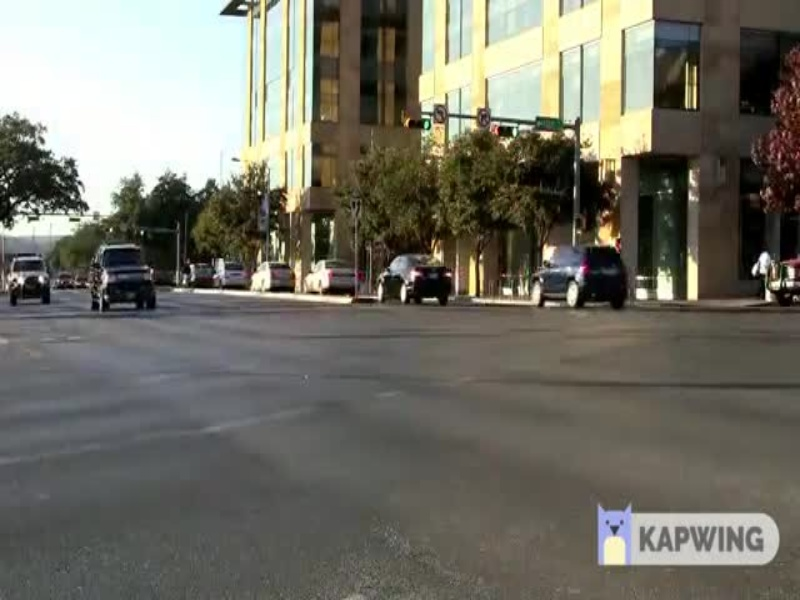car: (373, 251, 462, 310), (292, 253, 365, 301)
suv: (524, 237, 639, 314), (78, 240, 167, 312), (6, 245, 54, 317)
